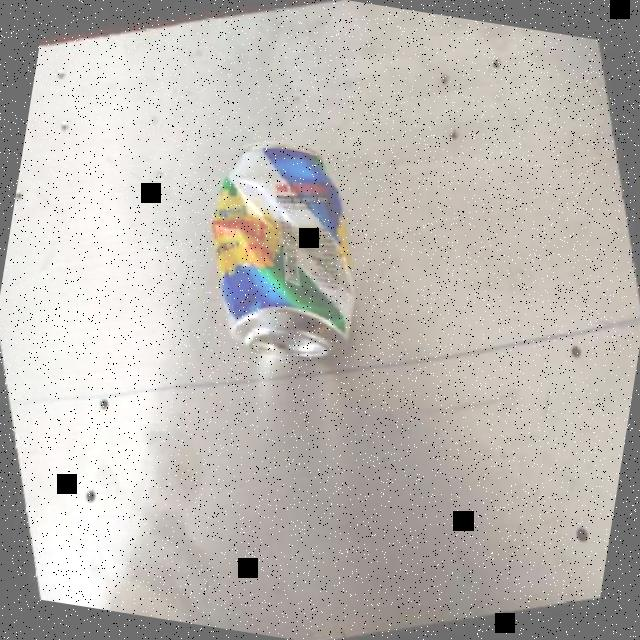can: (182, 126, 384, 416)
